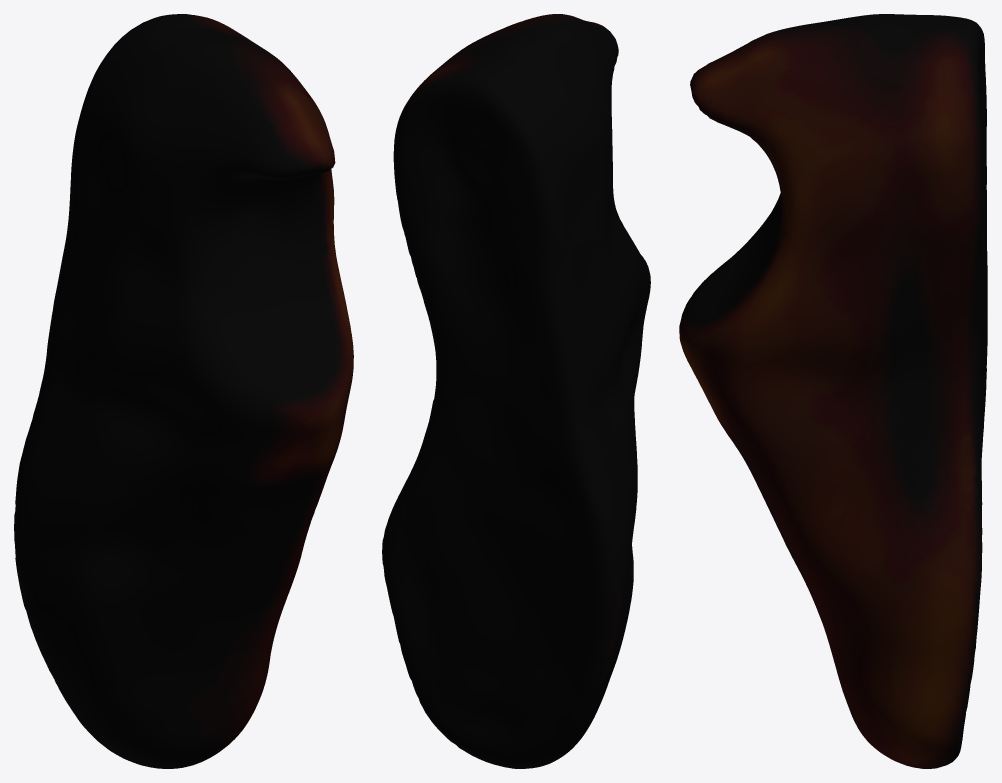
Rendered from shoe3.glb.
The picture shows the model from 3 angles, left to right: view 1: azimuth 30°, elevation 25°; view 2: azimuth 150°, elevation 25°; view 3: azimuth 270°, elevation 25°; orthographic projection. The views are drawn at different scales.
Size of the model in its own units: 0.3502 by 0.9997 by 0.3741.
